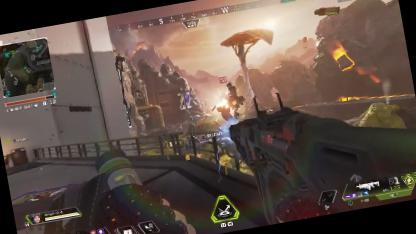Target: (209, 80, 247, 127)
